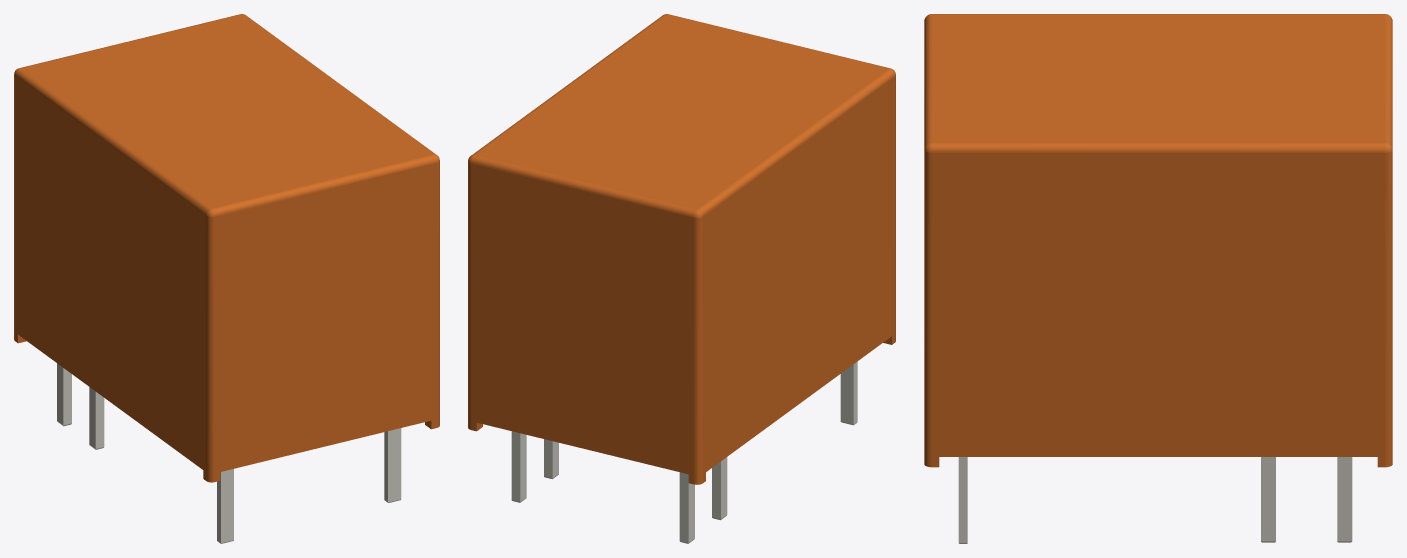
Rendered from kc-relay_spdt_cui_sr5.glb.
3 views of the same model, side by side, from view 1: azimuth 30°, elevation 25°; view 2: azimuth 150°, elevation 25°; view 3: azimuth 270°, elevation 25° (orthographic). The views are drawn at different scales.
Parts seen in each view (by area): view 1: 0.5833333333333334_0.16666666666666666_0_0, 0.6666666666666666_0.6666666666666666_0.5833333333333334_0.8; view 2: 0.5833333333333334_0.16666666666666666_0_0, 0.6666666666666666_0.6666666666666666_0.5833333333333334_0.8; view 3: 0.5833333333333334_0.16666666666666666_0_0, 0.6666666666666666_0.6666666666666666_0.5833333333333334_0.8.
Boxes of the visible parts, bbox=[...] form: 0.5833333333333334_0.16666666666666666_0_0: bbox=[14, 14, 439, 482]; 0.6666666666666666_0.6666666666666666_0.5833333333333334_0.8: bbox=[57, 363, 401, 543]; 0.5833333333333334_0.16666666666666666_0_0: bbox=[468, 14, 895, 484]; 0.6666666666666666_0.6666666666666666_0.5833333333333334_0.8: bbox=[511, 361, 857, 543]; 0.5833333333333334_0.16666666666666666_0_0: bbox=[924, 14, 1392, 467]; 0.6666666666666666_0.6666666666666666_0.5833333333333334_0.8: bbox=[958, 457, 1352, 543].
Size of the model in its own units: 1.06 by 1.52 by 1.56.
